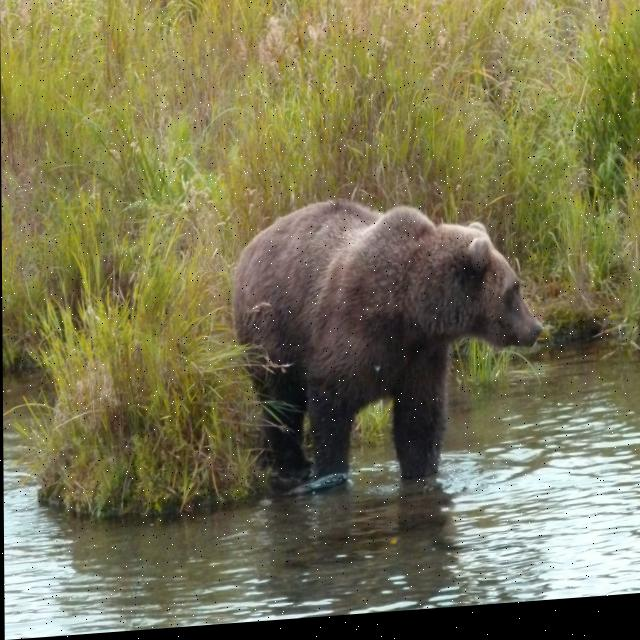bear face: (234, 195, 544, 497)
